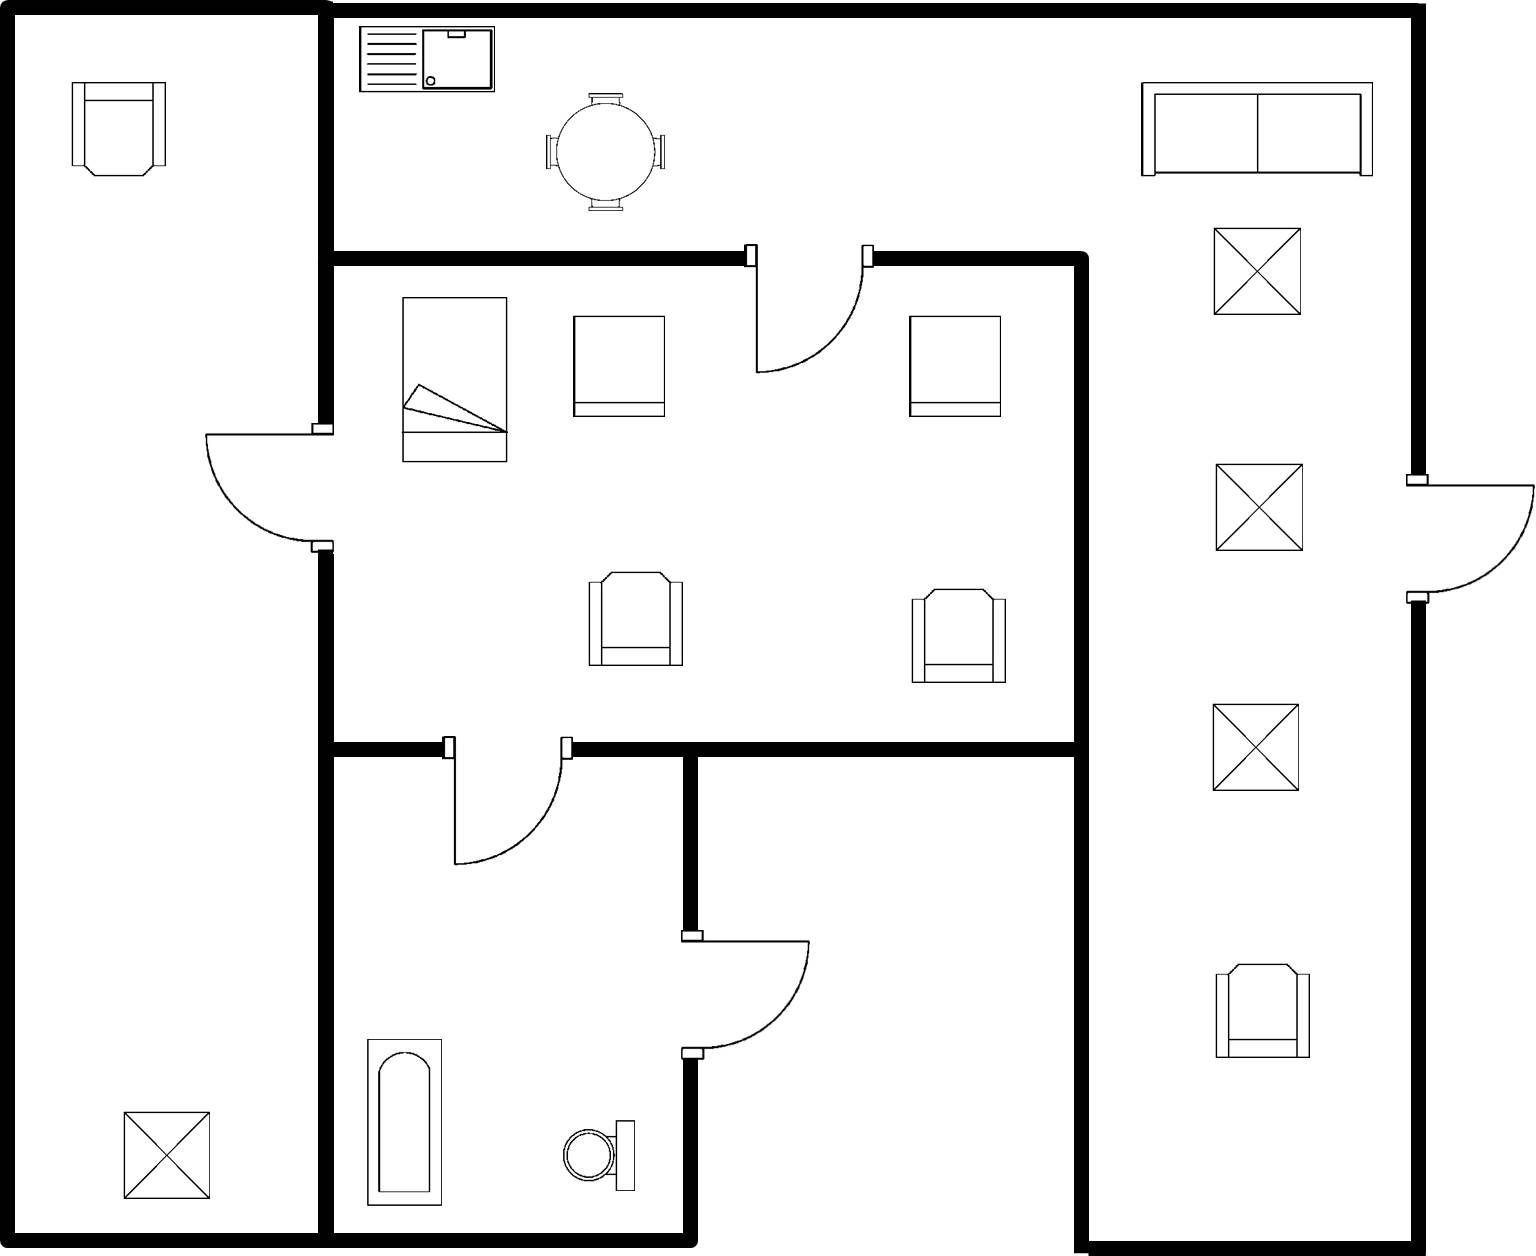armchair: (1201, 953, 1321, 1069), (579, 561, 695, 677), (901, 578, 1016, 694), (61, 74, 177, 187)
bed: (393, 289, 516, 470)
coffee_table: (115, 1099, 222, 1210), (1206, 455, 1313, 560), (1202, 697, 1311, 800), (1205, 220, 1308, 327)
large_sink: (555, 1110, 644, 1203)
large_sofa: (1134, 75, 1383, 185)
round_table: (536, 85, 677, 220)
sink: (354, 19, 502, 100)
small_sofa: (897, 307, 1008, 427), (566, 307, 674, 426)
tub: (358, 1028, 450, 1213)
